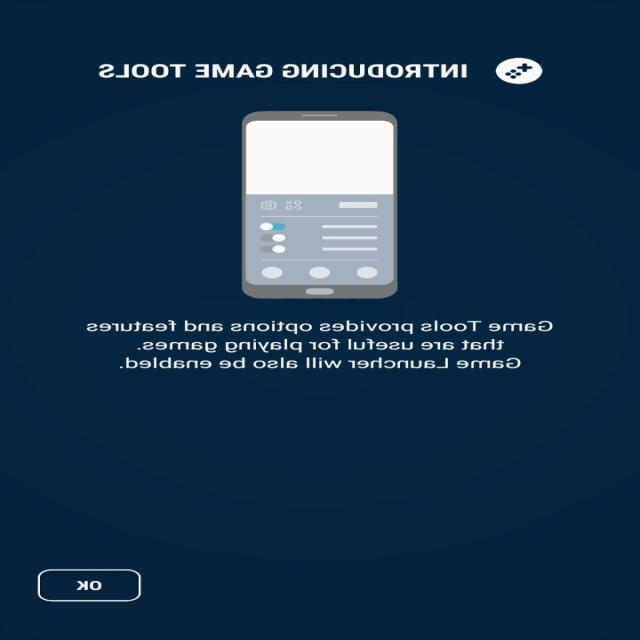BackgroundImage: (1, 0, 640, 639)
Image: (242, 110, 398, 299), (495, 58, 543, 84)
Text: (87, 319, 554, 368), (99, 64, 468, 78)
TextButton: (38, 568, 142, 602)
